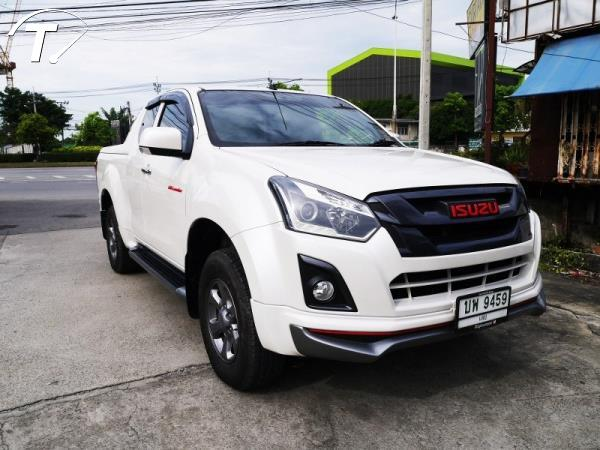pickup: (92, 80, 549, 397)
